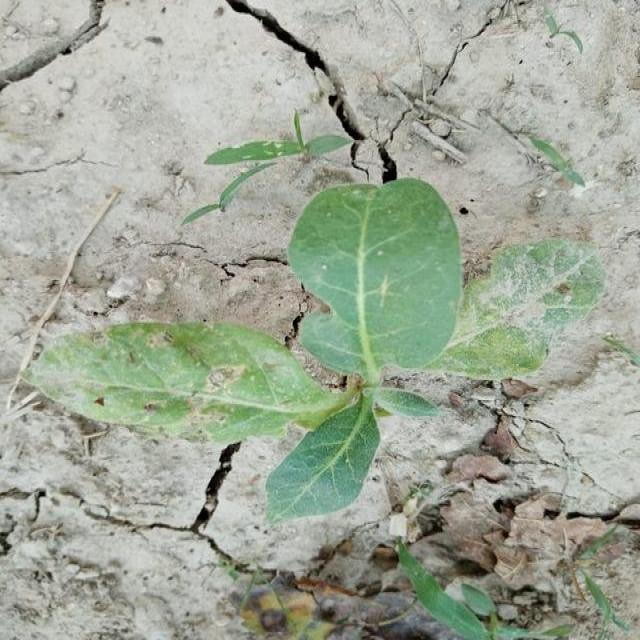crop: (35, 162, 602, 526)
